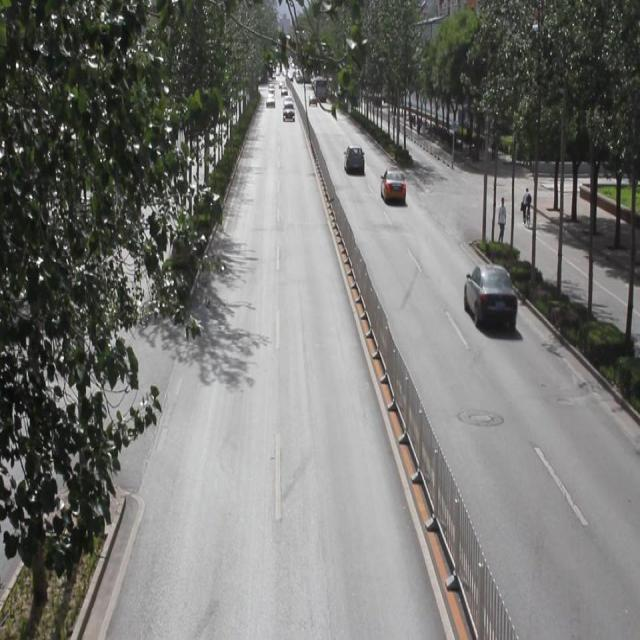car: (462, 262, 516, 332), (380, 168, 406, 208), (343, 145, 364, 176)
